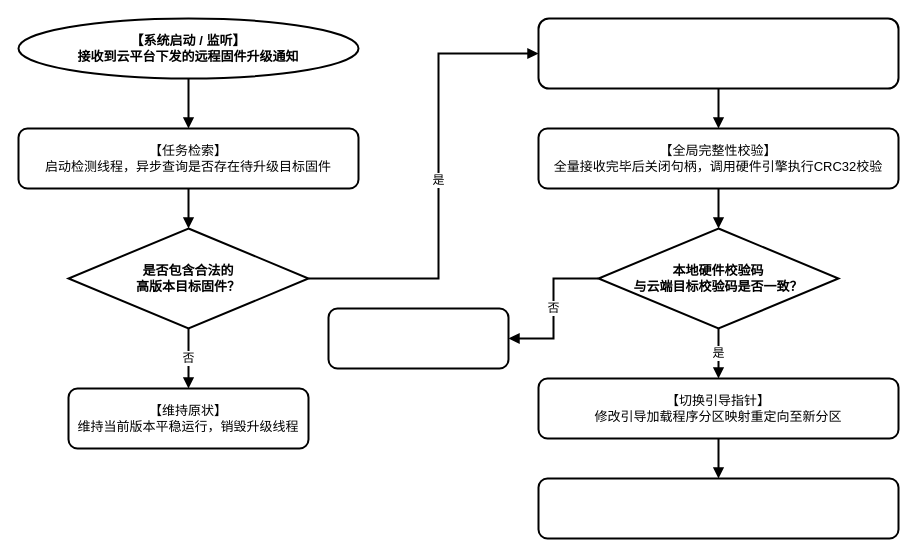
Image size: 916x556. Some labels were removed from this diagram. Each missing label, with the centre of its shape:
"【固件下传与写入】 解析配置元数据，发起HTTP请求分块循环读取固件流 并实时追加写入物理闪存备用分区" belongs at [718,53].
"【安全擦除与回滚】 固件受损，擦除备用分区并中止升级" belongs at [418,338].
"【硬件重启与加载】 系统触发底层芯片冷重启，全新固件程序安全闭环运行" belongs at [718,508].
